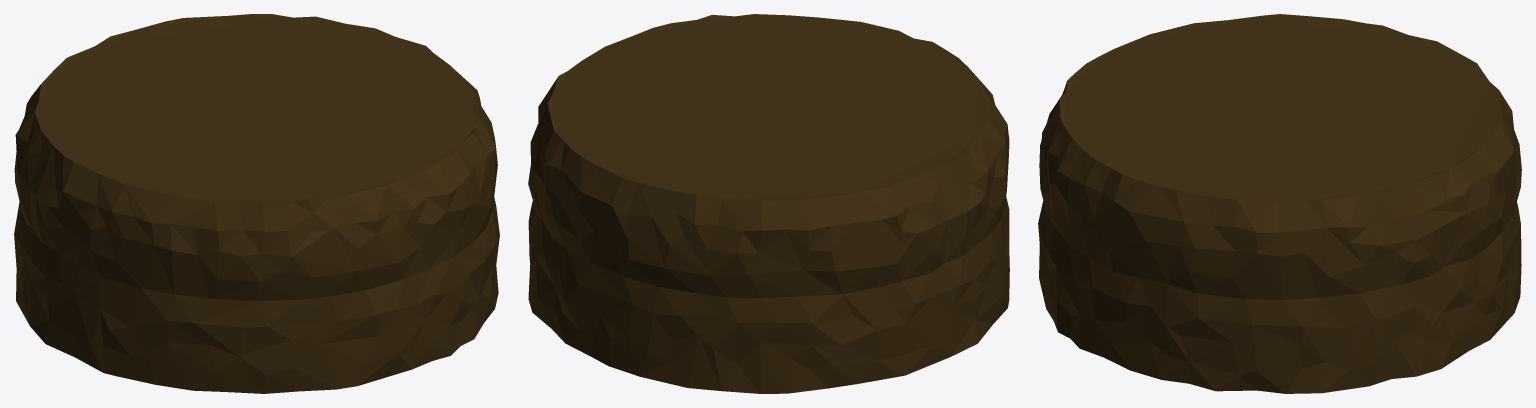
The model's file is cliffFace.fbx.
3 renders of one model, left to right at view 1: azimuth 30°, elevation 25°; view 2: azimuth 150°, elevation 25°; view 3: azimuth 270°, elevation 25°, orthographic.
Visible parts, largest first — view 1: Cylinder; view 2: Cylinder; view 3: Cylinder.
Boxes of the visible parts, left/top/right/bottom form: Cylinder: left=14, top=14, right=499, bottom=393; Cylinder: left=528, top=14, right=1009, bottom=393; Cylinder: left=1038, top=14, right=1521, bottom=393.
Bounding box in the file's own units: 1872 × 793 × 1876.
